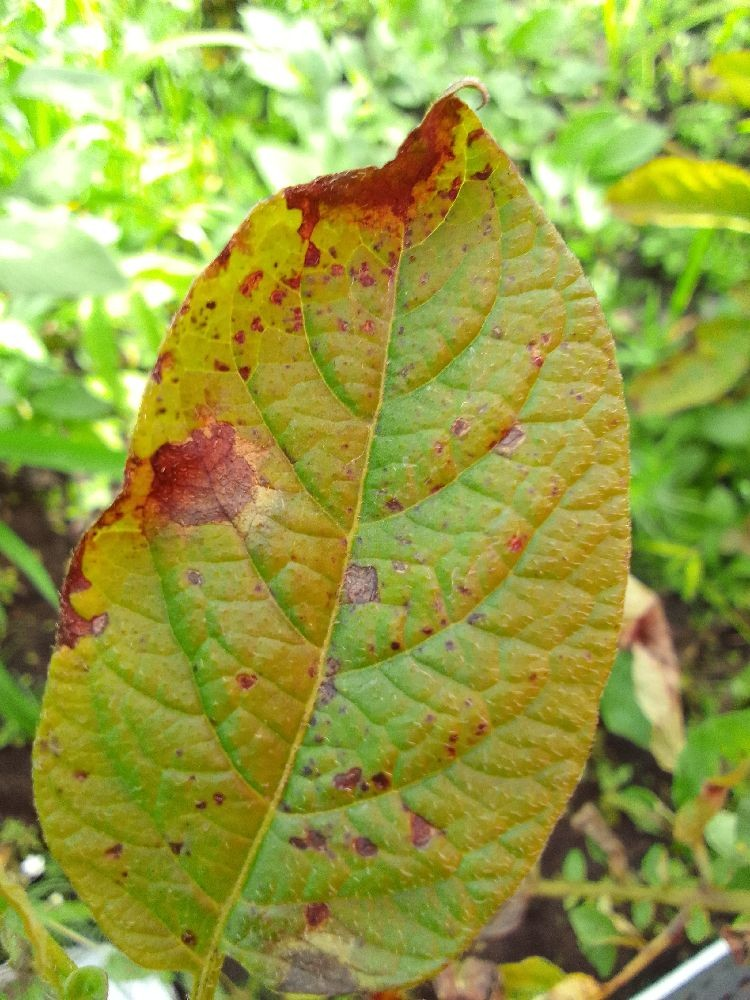late_blight: (165, 220, 585, 780), (0, 692, 112, 911), (612, 241, 681, 317)
